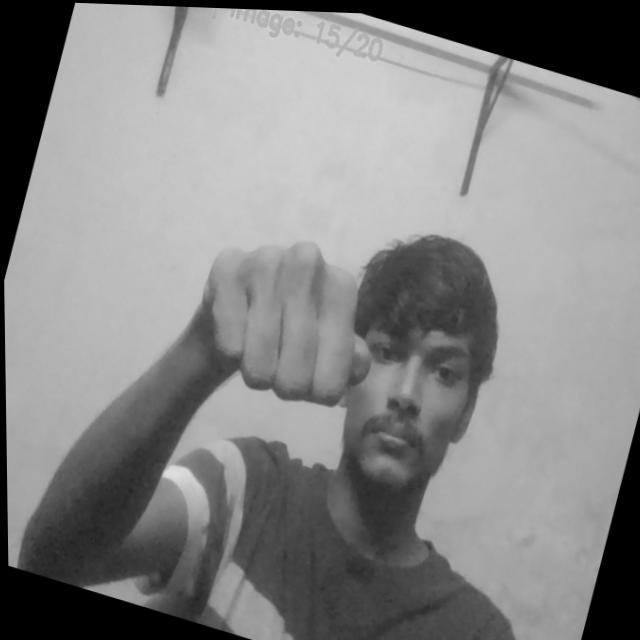Yes: (175, 210, 402, 431)
